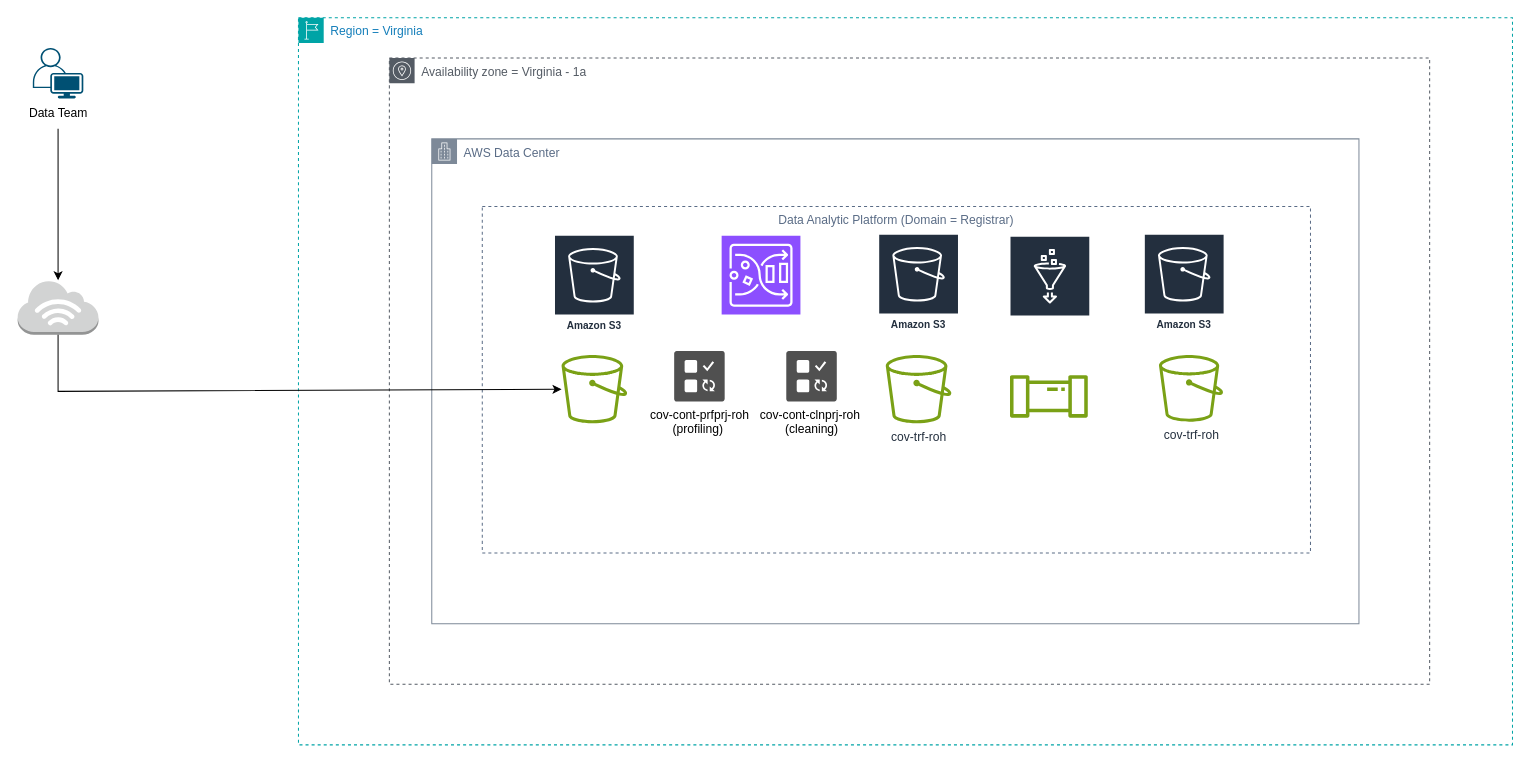
The diagram is 1530 pixels wide and 763 high, and some of its shapes have lost their labels. Here are the shapes that lost their labels. From the top down, the centre of each, then its label:
At pixel 760 275: "AWS Glue DataBrew".
At pixel 1049 286: "AWS Glue".
At pixel 594 389: "cov-raw-roh".
At pixel 1048 396: "cov-cont-etl-roh".
